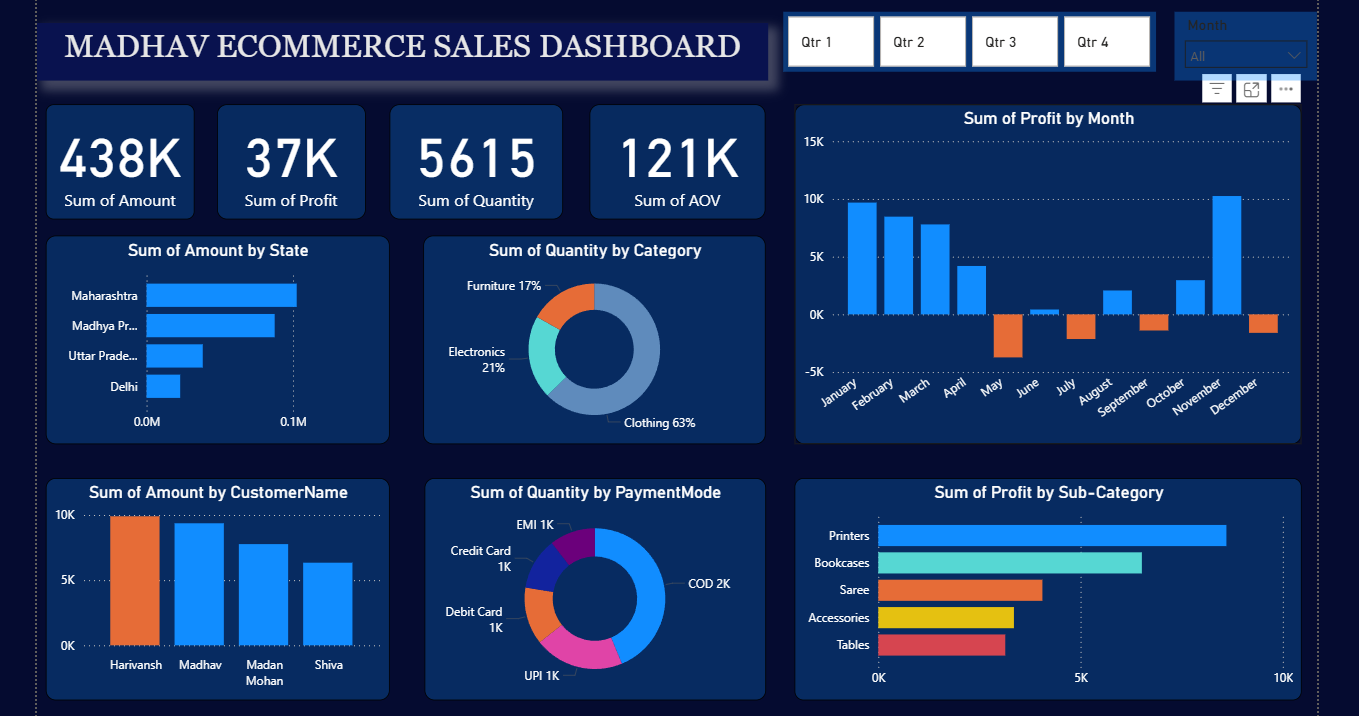

Layout of this report page (visuals, bound fields, positions):
{"tool":"powerbi","page":{"name":"Page 2","canvas":[1280,720],"ordinal":1},"visuals":[{"type":"textbox","box":[0,25,731.2,57.5],"z":0},{"type":"card","fields":{"Values":["Details.Profit"]},"box":[180,106.2,148.8,115],"z":1},{"type":"card","fields":{"Values":["Details.Quantity"]},"box":[352.5,106.2,173.8,115],"z":2},{"type":"card","fields":{"Values":["Details.Amount"]},"box":[8.8,106.2,148.8,115],"z":3},{"type":"card","fields":{"Values":["Details.AOV"]},"box":[552.5,106.2,176.2,115],"z":4},{"type":"clusteredBarChart","fields":{"Category":["Orders.State"],"Y":["Details.Amount"]},"box":[8.8,237.5,343.8,208.8],"z":5},{"type":"donutChart","fields":{"Category":["Details.Category"],"Y":["Details.Quantity"]},"box":[386.2,237.5,342.5,208.8],"z":6},{"type":"clusteredColumnChart","fields":{"Y":["Details.Amount"],"Category":["Orders.CustomerName"]},"box":[8.8,480,343.8,222.5],"z":7},{"type":"donutChart","fields":{"Category":["Details.PaymentMode"],"Y":["Details.Quantity"]},"box":[387.5,480,341.2,222.5],"z":8},{"type":"clusteredColumnChart","fields":{"Y":["Details.Profit"],"Category":["Orders.Order Date.Variation.Date Hierarchy.Month"]},"box":[757.5,106.2,507.5,340],"z":9},{"type":"clusteredBarChart","fields":{"Category":["Details.Sub-Category"],"Y":["Details.Profit"]},"box":[757.5,480,507.5,222.5],"z":10},{"type":"advancedSlicerVisual","fields":{"Values":["Orders.Order Date.Variation.Date Hierarchy.Quarter"]},"box":[746.2,13.8,372.5,60],"z":11},{"type":"slicer","fields":{"Values":["Orders.Order Date.Variation.Date Hierarchy.Month"]},"box":[1137.5,13.8,142.5,68.8],"z":12}]}

Visuals, with their boxes on the page's 1280x720 design canvas (x1, y1, x2, y2). These are canvas units, not pixel positions in the 1359x716 screenshot, which may show the page scaled, cropped or inside an application window:
textbox: crop(0, 25, 731, 82)
card - Details.Profit: crop(180, 106, 329, 221)
card - Details.Quantity: crop(352, 106, 526, 221)
card - Details.Amount: crop(9, 106, 158, 221)
card - Details.AOV: crop(552, 106, 729, 221)
clusteredBarChart - Orders.State x Details.Amount: crop(9, 238, 353, 446)
donutChart - Details.Category x Details.Quantity: crop(386, 238, 729, 446)
clusteredColumnChart - Details.Amount x Orders.CustomerName: crop(9, 480, 353, 702)
donutChart - Details.PaymentMode x Details.Quantity: crop(388, 480, 729, 702)
clusteredColumnChart - Details.Profit x Orders.Order Date.Variation.Date Hierarchy.Month: crop(758, 106, 1265, 446)
clusteredBarChart - Details.Sub-Category x Details.Profit: crop(758, 480, 1265, 702)
advancedSlicerVisual - Orders.Order Date.Variation.Date Hierarchy.Quarter: crop(746, 14, 1119, 74)
slicer - Orders.Order Date.Variation.Date Hierarchy.Month: crop(1138, 14, 1280, 83)
